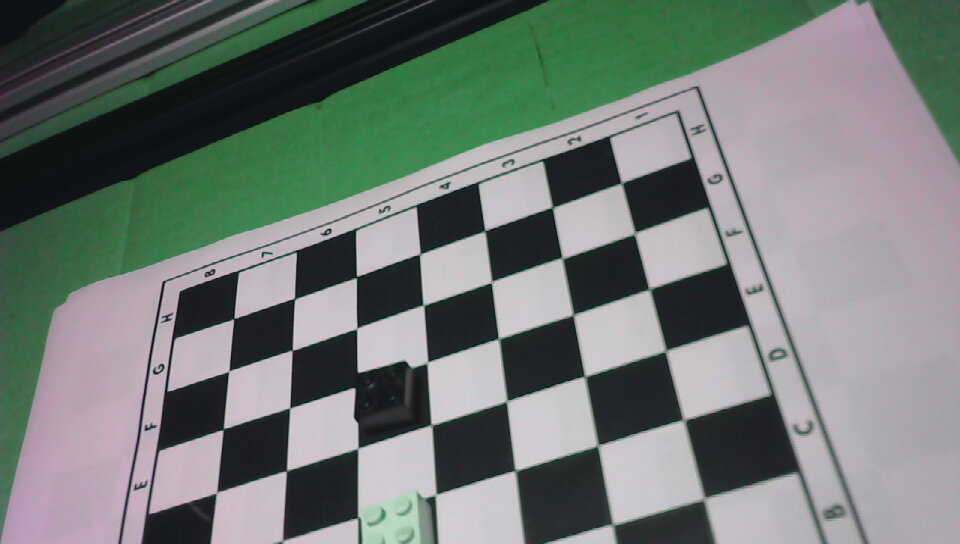bp: (351, 358, 420, 434)
